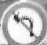Don't turn left: (2, 1, 43, 43)
